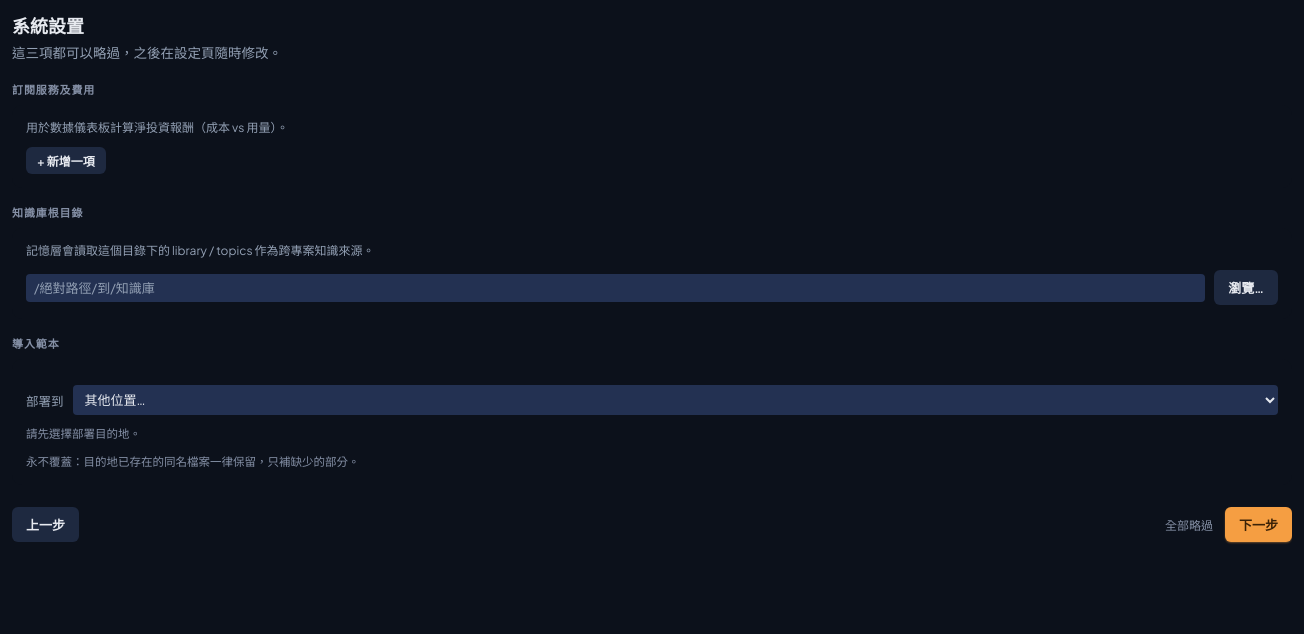
SystemSettingsCard 系統設置頁（訂閱 + KMS 根目錄） › 費用負數：顯示費用錯誤（與後端 400 規則同一套判準）
This screenshot has width=1304, height=634.
Click the button "+ 新增一項" at (66, 161), box x1=26 y1=147 x2=106 y2=174
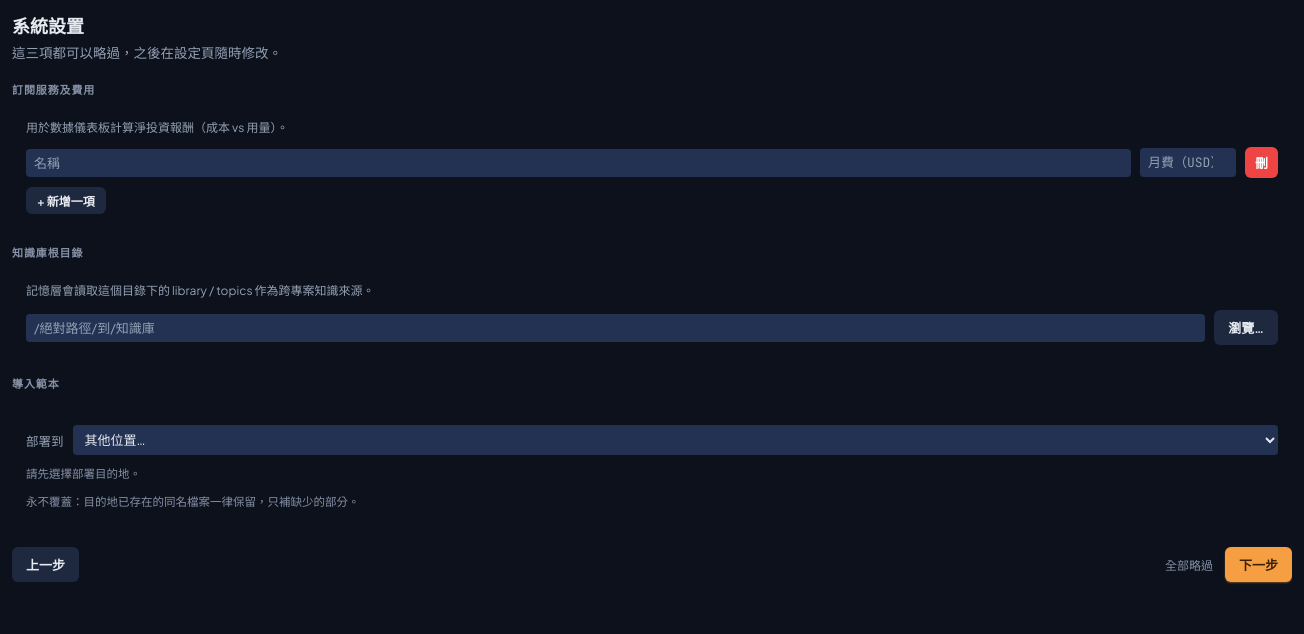
Type "Claude" into the field with placeholder "名稱" at (578, 163), box x1=26 y1=149 x2=1131 y2=177
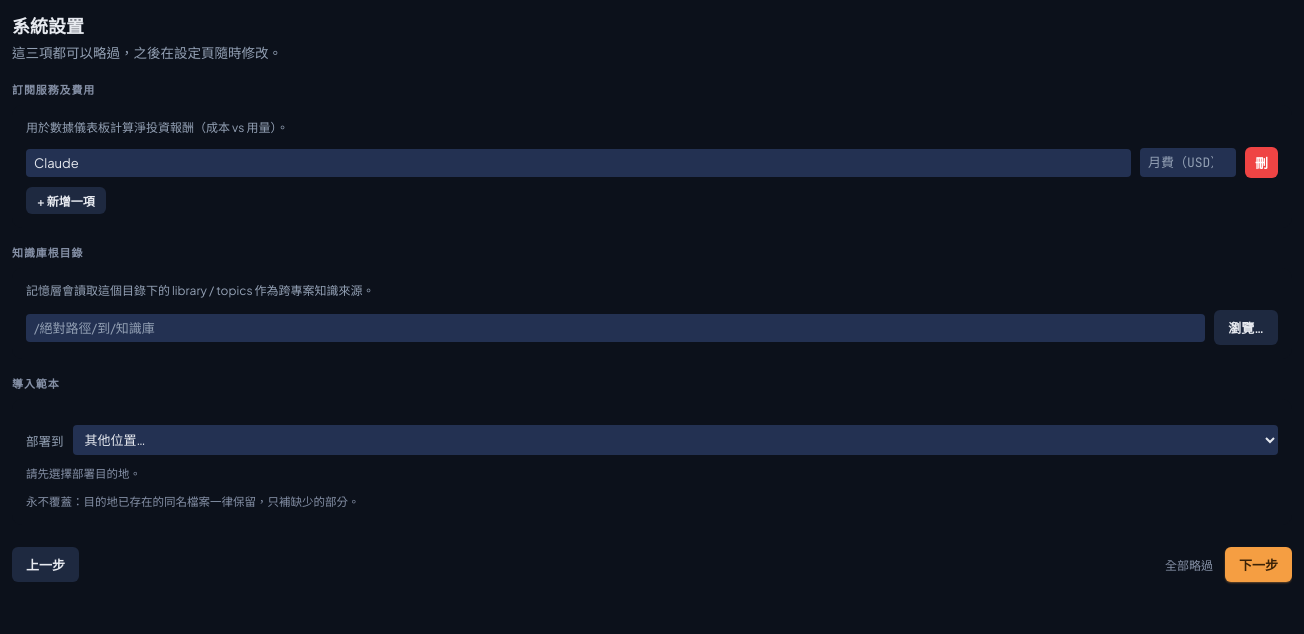
Type "-1" into the number field with placeholder "月費（USD）" at (1188, 163), box x1=1140 y1=148 x2=1236 y2=177
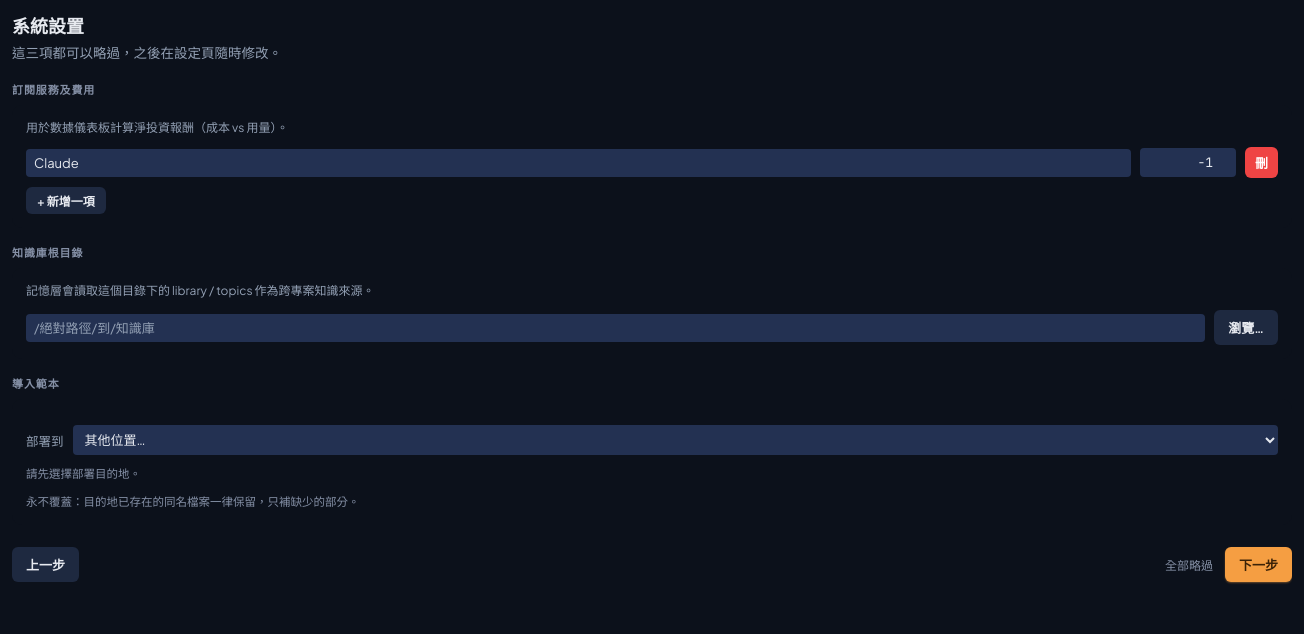
Click the button "下一步" at (1258, 564), box x1=1225 y1=547 x2=1292 y2=582
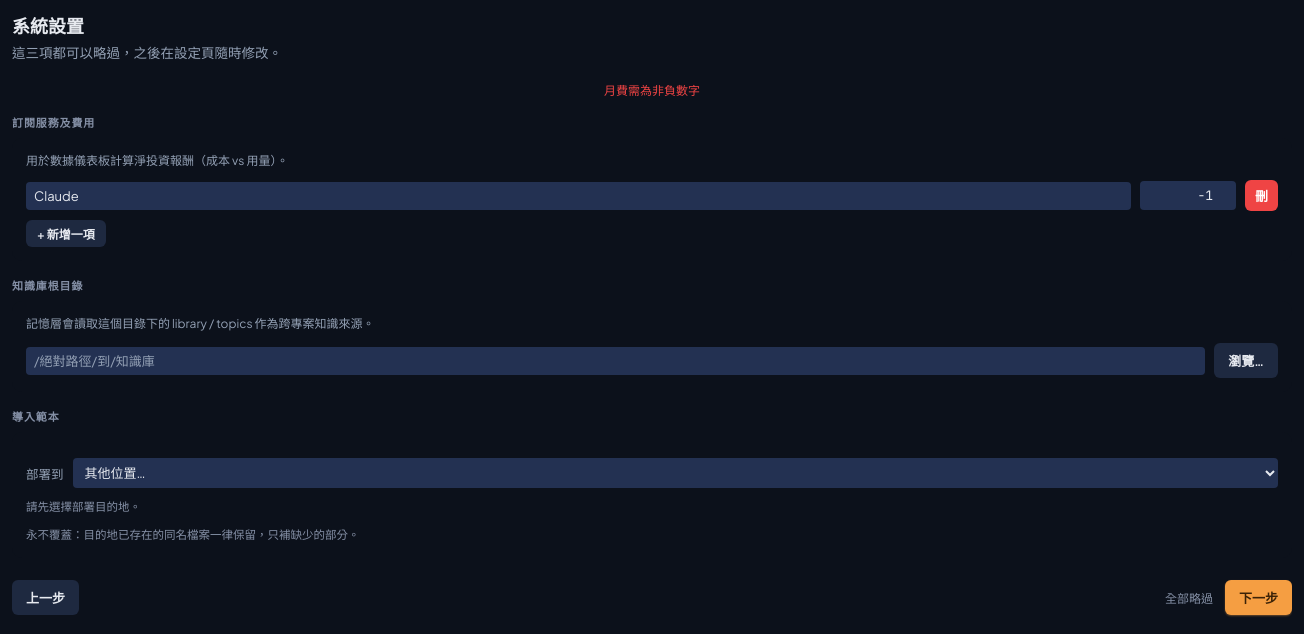
Check: the text "月費需為非負數字" is shown, box x1=604 y1=83 x2=700 y2=98
